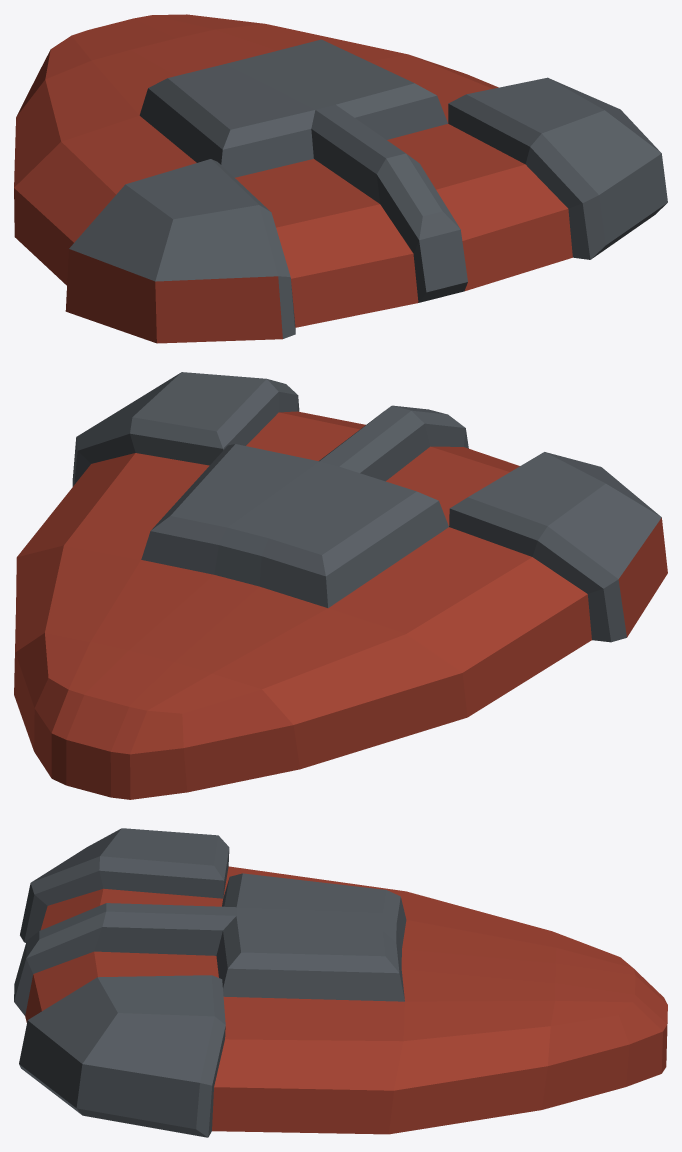
The model's file is Fighter_02_Hatch_Red.fbx.
3 views of the same model, one above another, from view 1: azimuth 30°, elevation 25°; view 2: azimuth 150°, elevation 25°; view 3: azimuth 270°, elevation 25° (orthographic). The views are drawn at different scales.
Parts seen in each view (by area): view 1: Fighter_02_Hatch_Red; view 2: Fighter_02_Hatch_Red; view 3: Fighter_02_Hatch_Red.
Boxes of the visible parts, x1,y1,x2,y2 form: Fighter_02_Hatch_Red: (14,14,667,343); Fighter_02_Hatch_Red: (14,372,667,799); Fighter_02_Hatch_Red: (14,828,667,1137).
Bounding box in the file's own units: 50.09 × 13.88 × 55.73.
Materials: 1 (1 with a texture image).
